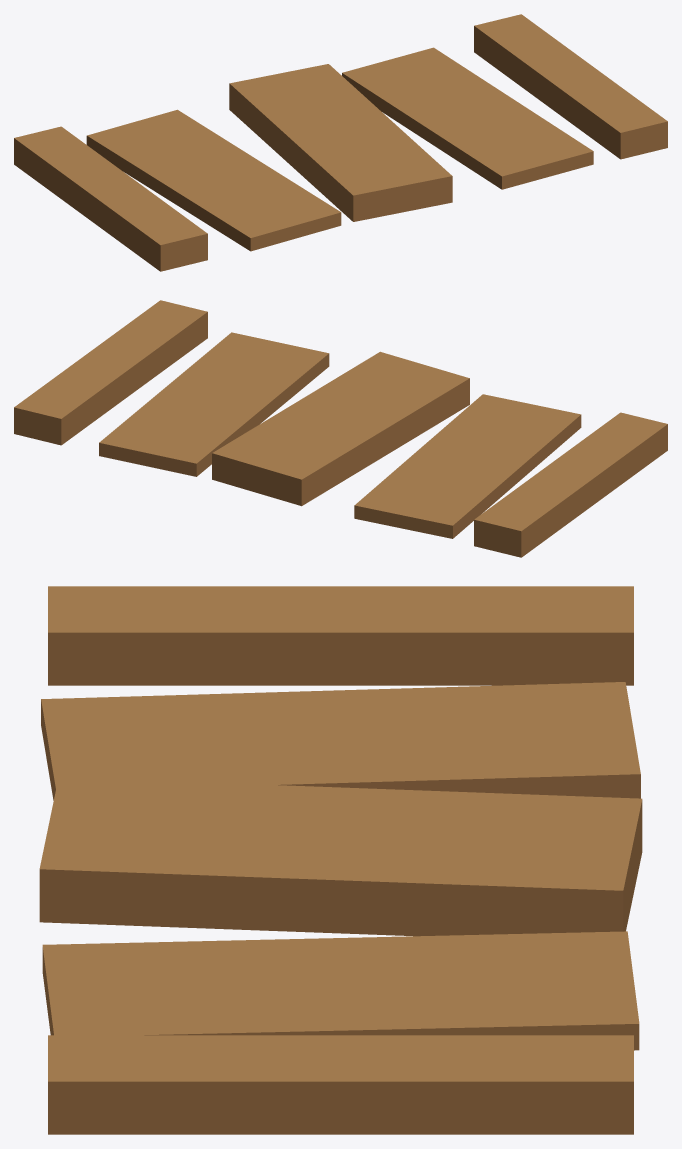
The model's file is path_wood.glb.
3 views of the same model, one above another, from view 1: azimuth 30°, elevation 25°; view 2: azimuth 150°, elevation 25°; view 3: azimuth 270°, elevation 25° (orthographic). The views are drawn at different scales.
Parts seen in each view (by area): view 1: path_wood; view 2: path_wood; view 3: path_wood.
Part boxes in pixels (left/top/right/bottom): path_wood: left=14, top=14, right=667, bottom=271; path_wood: left=14, top=300, right=667, bottom=557; path_wood: left=39, top=586, right=642, bottom=1134.
Size of the model in its own units: 1 by 0.05 by 0.5144.
